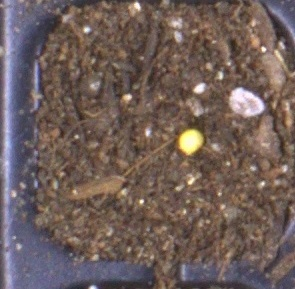chilli seed: (177, 128, 205, 157)
